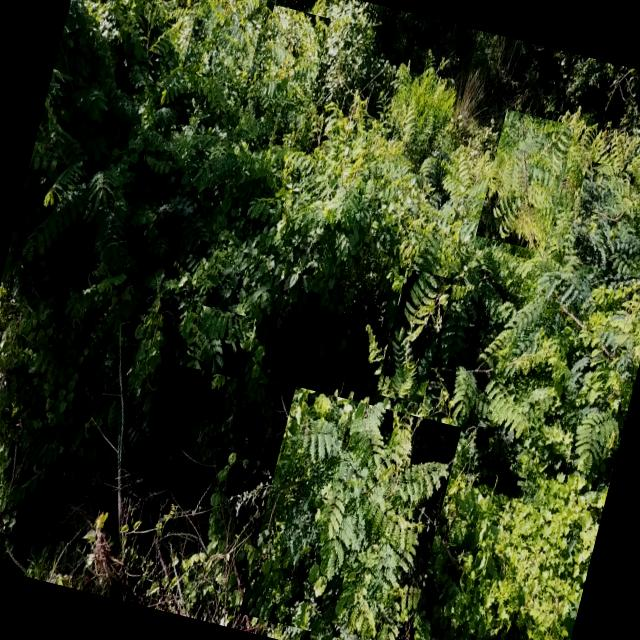Mysore-Thorn-Weed: (238, 386, 461, 640), (490, 253, 640, 410), (476, 109, 574, 252), (375, 267, 453, 405), (563, 160, 640, 283), (252, 4, 330, 108), (181, 0, 272, 87), (174, 302, 258, 380)
